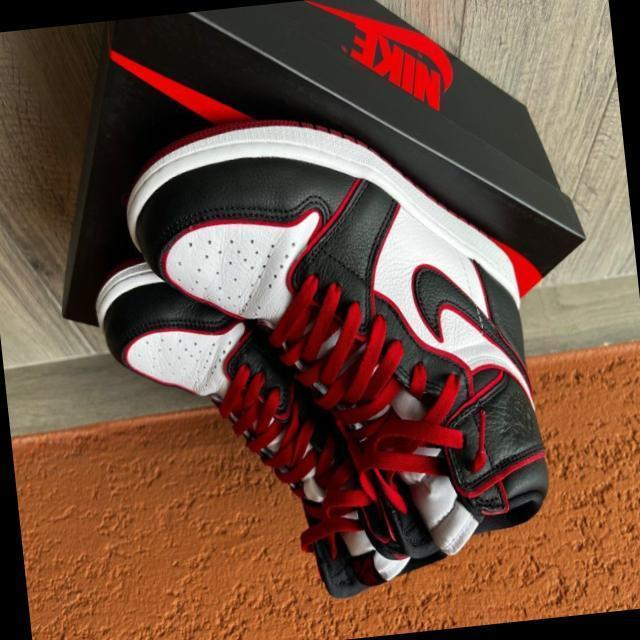nike original jordan 1: (111, 90, 558, 590), (88, 228, 434, 619)
